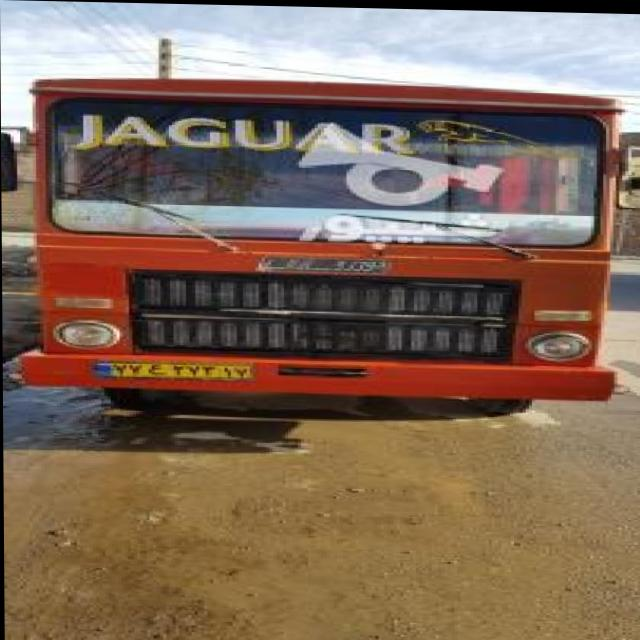licence: (84, 355, 246, 380)
